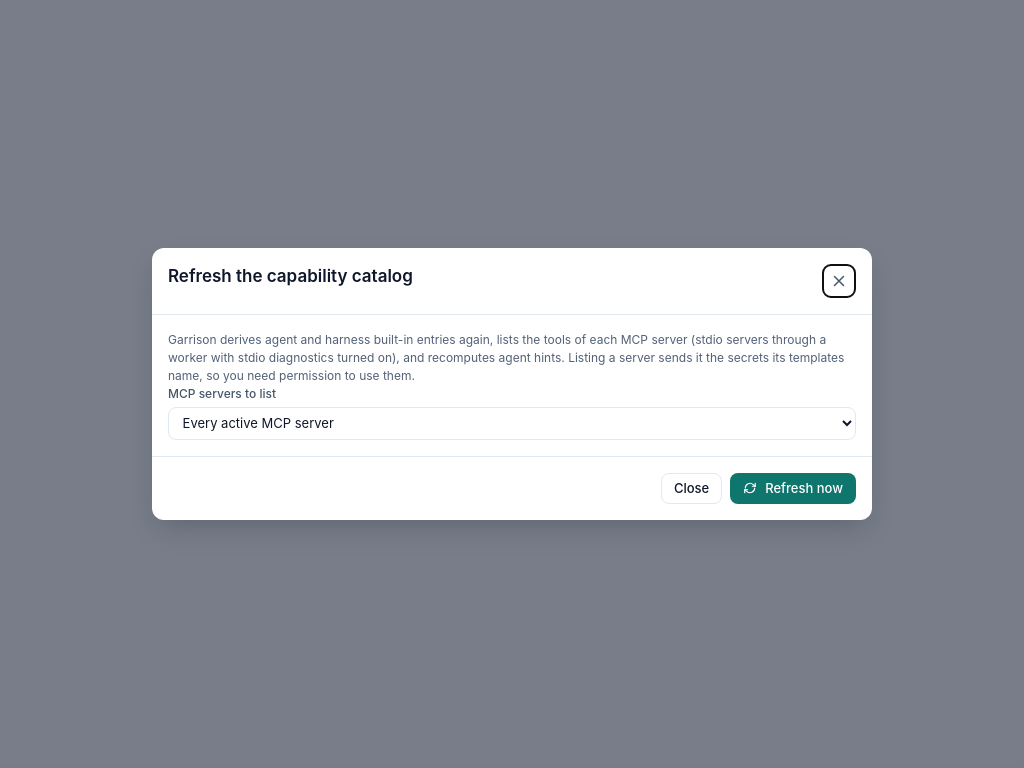
refresh dialog › shows a refusal in the dialog
Click the button with test id "capability-refresh-run": (793, 488) [730,473,856,504]
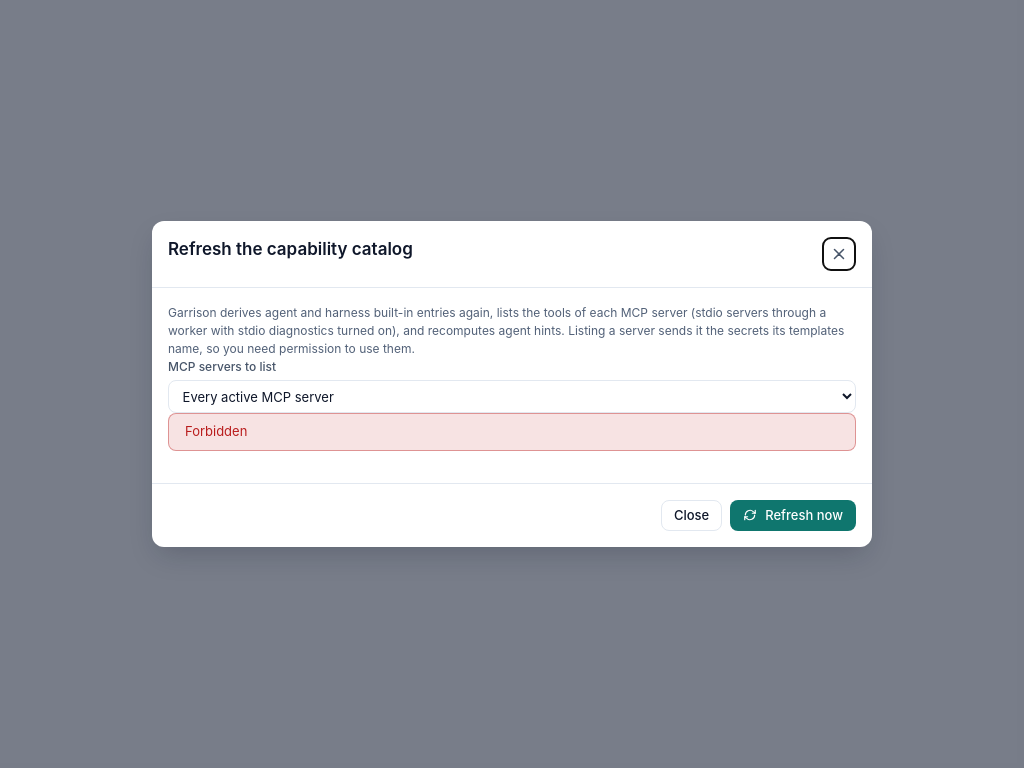
expect the element with class "error-banner" is shown: met, box [168,413,856,451]
